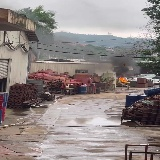fire: (108, 97, 122, 111), (119, 77, 130, 82)
